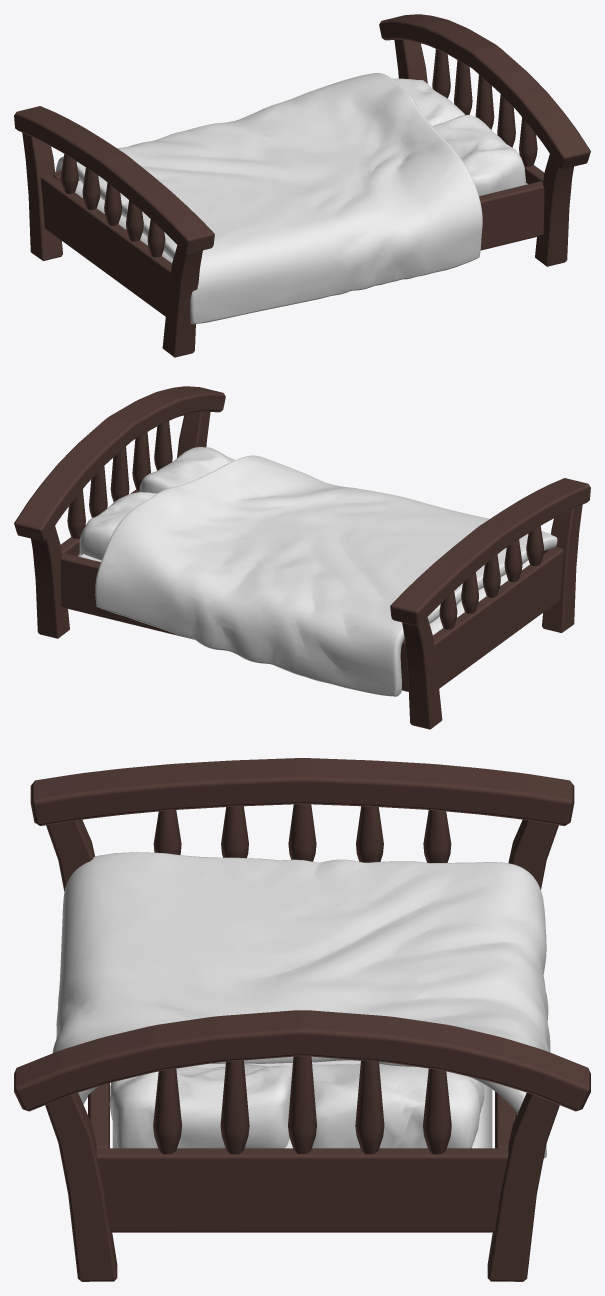
File: Bed.fbx
The picture shows the model from 3 angles, top to bottom: view 1: azimuth 30°, elevation 25°; view 2: azimuth 150°, elevation 25°; view 3: azimuth 270°, elevation 25°; orthographic projection. The views are drawn at different scales.
Parts seen in each view (by area): view 1: Cube.006, Cylinder.002, Cube.001, Cube.003, Cylinder.001, Cube.004, Cube.005; view 2: Cube.006, Cylinder.002, Cube.001, Cube.003, Cylinder.001, Cube.004, Cube.005, Cube.002; view 3: Cube.006, Cylinder.002, Cube.001, Cube.003, Cylinder.001, Cube.004, Cube.005, Cube.002.
Part boxes in pixels (x1,y1,x2,y2): Cube.006: [55, 73, 482, 324]; Cylinder.002: [14, 14, 590, 254]; Cube.001: [40, 154, 544, 316]; Cube.003: [22, 39, 573, 357]; Cylinder.001: [61, 49, 537, 257]; Cube.004: [432, 114, 526, 195]; Cube.005: [392, 78, 464, 125]; Cube.006: [95, 455, 557, 696]; Cylinder.002: [14, 386, 590, 626]; Cube.001: [60, 489, 564, 691]; Cube.003: [31, 411, 582, 729]; Cylinder.001: [67, 421, 543, 629]; Cube.004: [139, 447, 234, 493]; Cube.005: [79, 492, 156, 560]; Cube.002: [77, 554, 529, 634]; Cube.006: [52, 852, 550, 1158]; Cylinder.002: [14, 758, 590, 1111]; Cube.001: [88, 1083, 516, 1232]; Cube.003: [45, 820, 559, 1281]; Cylinder.001: [153, 804, 451, 1154]; Cube.004: [109, 1064, 292, 1148]; Cube.005: [312, 1063, 484, 1148]; Cube.002: [112, 1060, 492, 1148].
Size of the model in its own units: 334 by 131 by 268.
